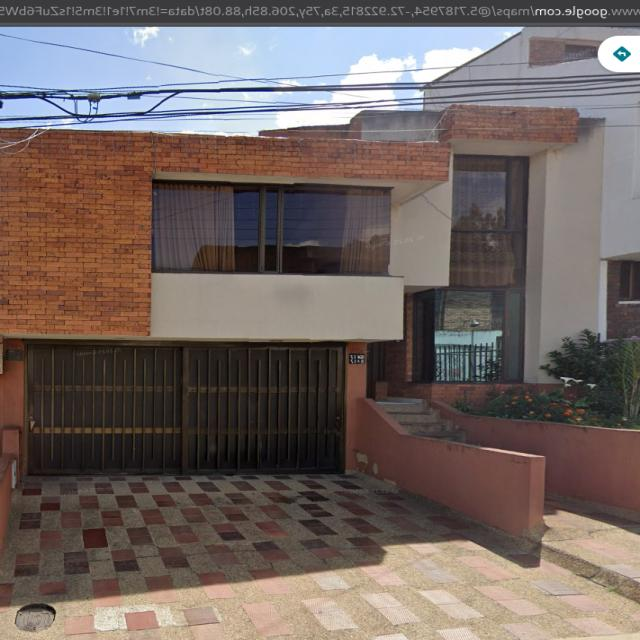Fachada: (1, 104, 604, 472)
